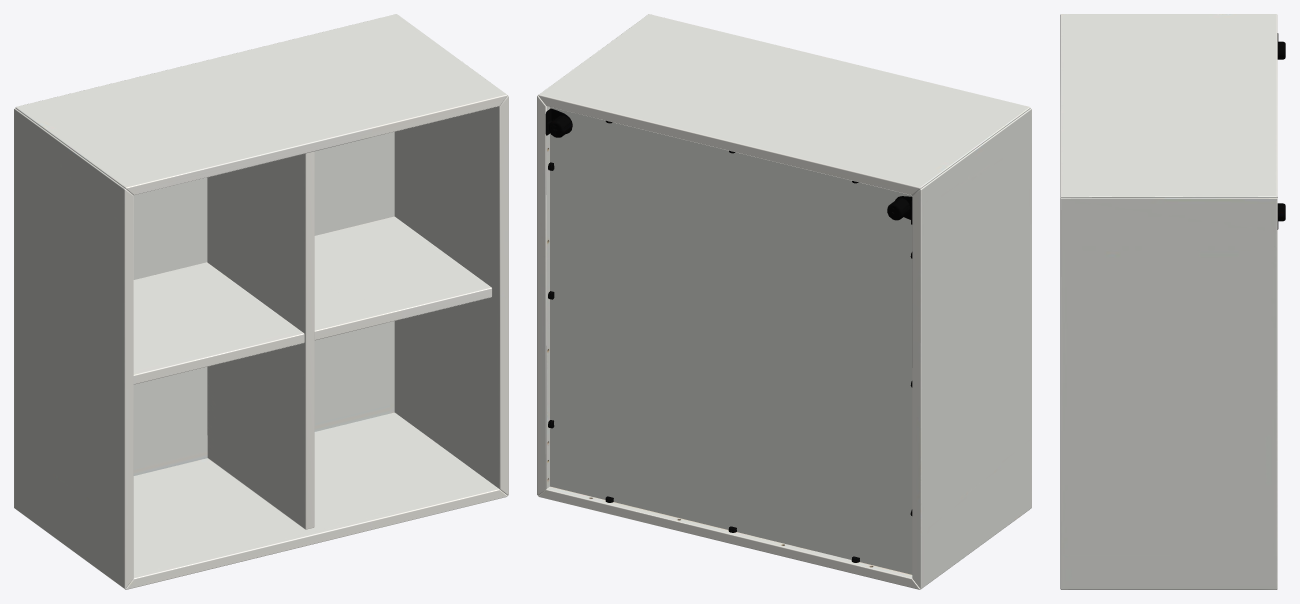
Rendered from eket_szafka_z_4_przegrodami_60333954.glb.
3 renders of one model, left to right at view 1: azimuth 30°, elevation 25°; view 2: azimuth 150°, elevation 25°; view 3: azimuth 270°, elevation 25°, orthographic. The views are drawn at different scales.
Parts seen in each view (by area): view 1: eket_szafka_z_4_przegrodami_60333954; view 2: eket_szafka_z_4_przegrodami_60333954; view 3: eket_szafka_z_4_przegrodami_60333954.
Part boxes in pixels (left/top/right/bottom): eket_szafka_z_4_przegrodami_60333954: left=14, top=14, right=508, bottom=589; eket_szafka_z_4_przegrodami_60333954: left=537, top=14, right=1031, bottom=589; eket_szafka_z_4_przegrodami_60333954: left=1060, top=14, right=1285, bottom=589.
Size of the model in its own units: 0.7 by 0.7 by 0.363.
1 material, 1 textured.
